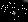person: (12, 9, 20, 20)
